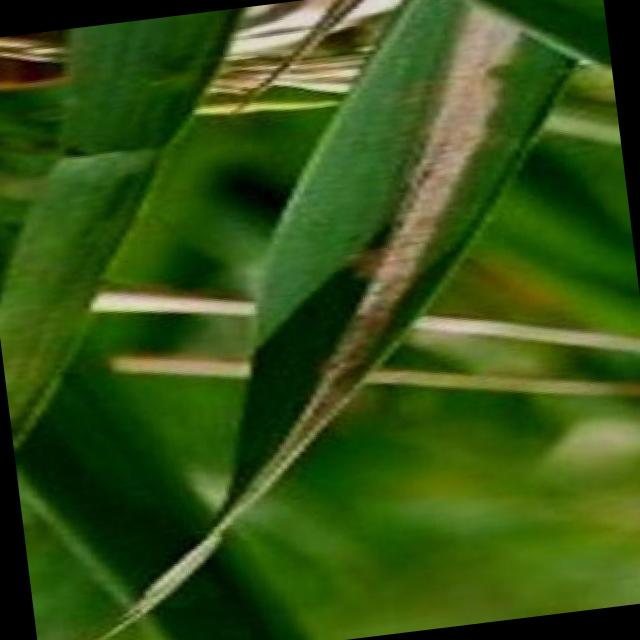Rice_Bacterial_Blight: (320, 2, 578, 324)
